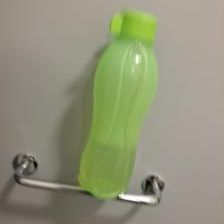bottle: (75, 8, 161, 202)
